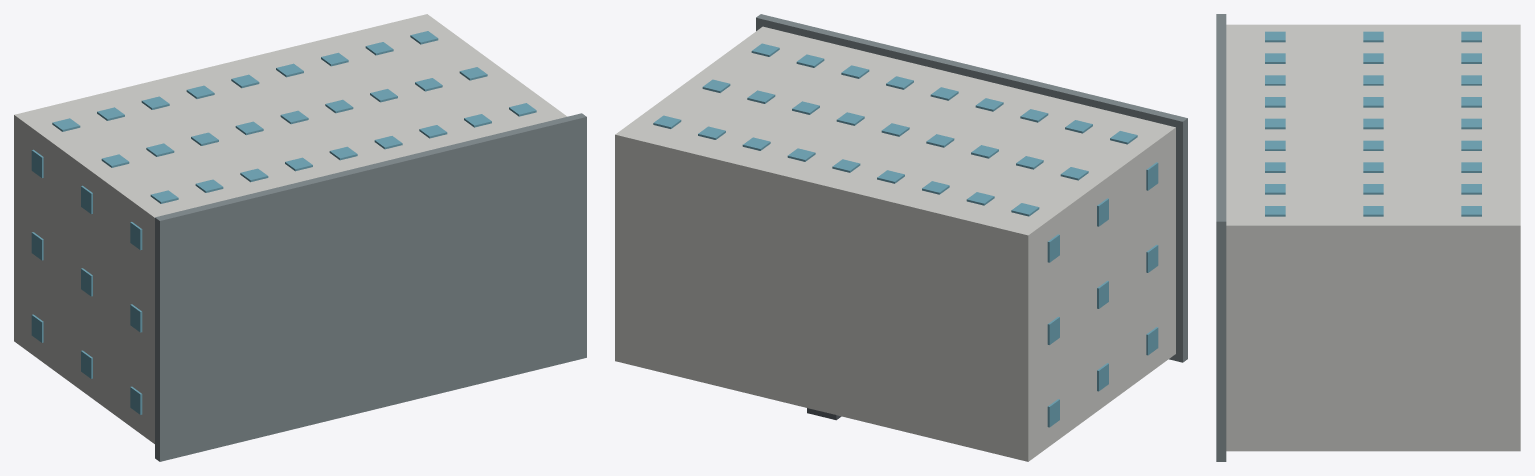
The model's file is city_hall.glb.
3 renders of one model, left to right at view 1: azimuth 30°, elevation 25°; view 2: azimuth 150°, elevation 25°; view 3: azimuth 270°, elevation 25°, orthographic.
Parts seen in each view (by area): view 1: g1, g0; view 2: g0, g1; view 3: g0, g1.
Boxes of the visible parts, bbox=[...] form: g1: bbox=[155, 113, 586, 461]; g0: bbox=[14, 14, 566, 443]; g0: bbox=[615, 26, 1175, 461]; g1: bbox=[756, 14, 1187, 362]; g0: bbox=[1226, 24, 1520, 451]; g1: bbox=[1216, 14, 1226, 461].
Size of the model in its own units: 21.7 by 11.7 by 13.44.
